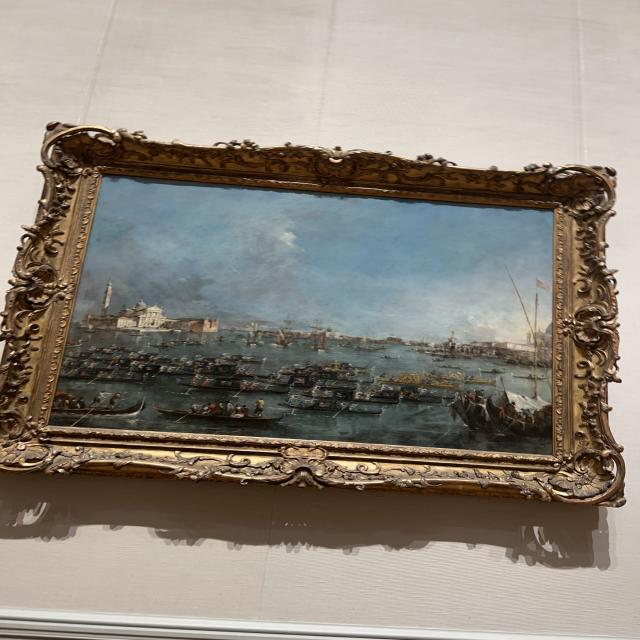ships: (49, 173, 555, 454)
